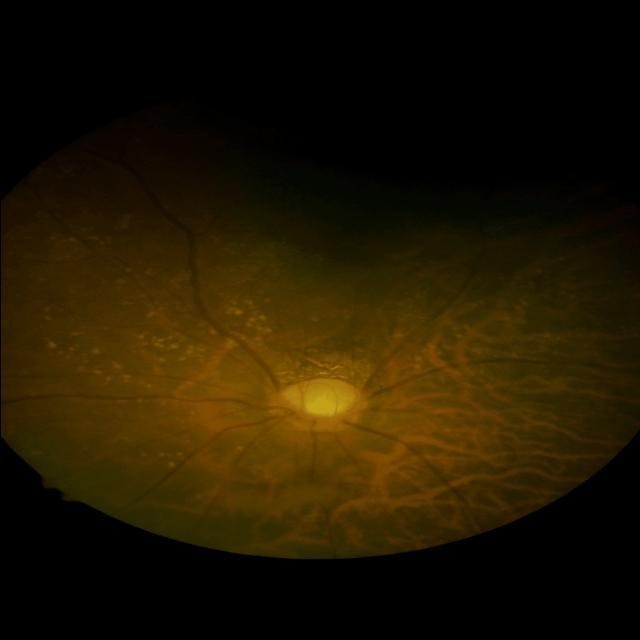cup: (280, 385, 356, 419)
disk: (266, 375, 366, 435)
